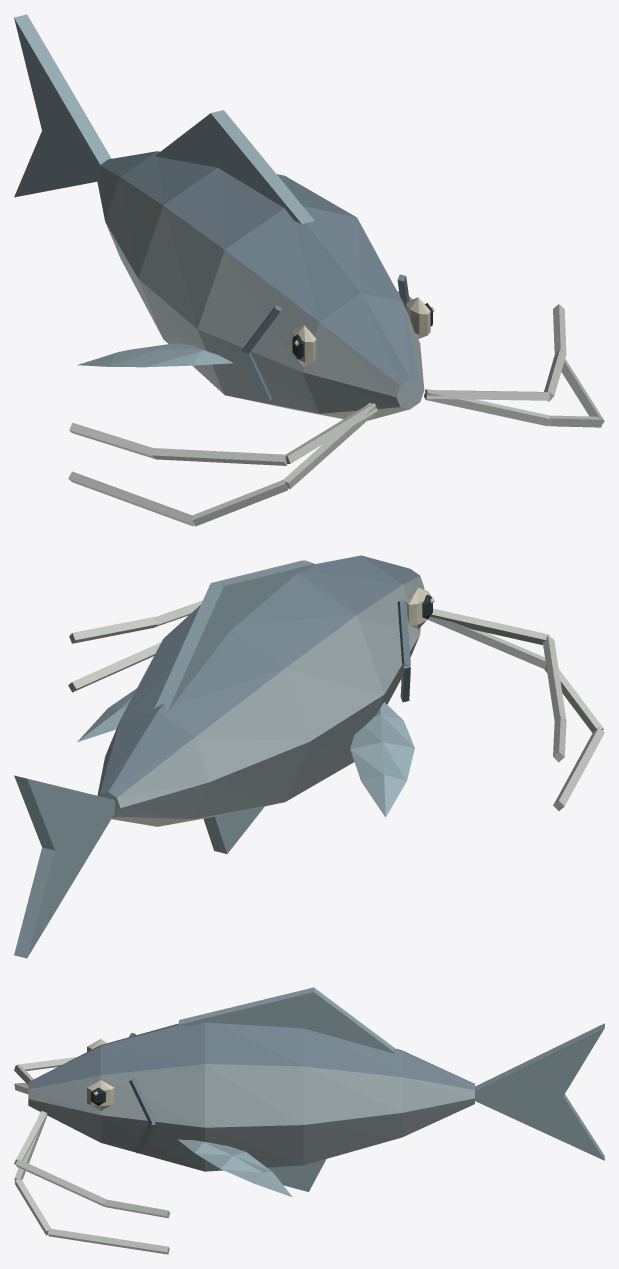
Rendered from fish_frostbarbel.glb.
3 renders of one model, top to bottom at view 1: azimuth 30°, elevation 25°; view 2: azimuth 150°, elevation 25°; view 3: azimuth 270°, elevation 25°, orthographic. The views are drawn at different scales.
Visible parts, largest first — view 1: fish; view 2: fish; view 3: fish.
Part boxes in pixels (bbox=[...]): fish: bbox=[14, 14, 604, 526]; fish: bbox=[14, 555, 604, 958]; fish: bbox=[14, 987, 604, 1254].
Size of the model in its own units: 0.5306 by 0.2761 by 0.7393.
